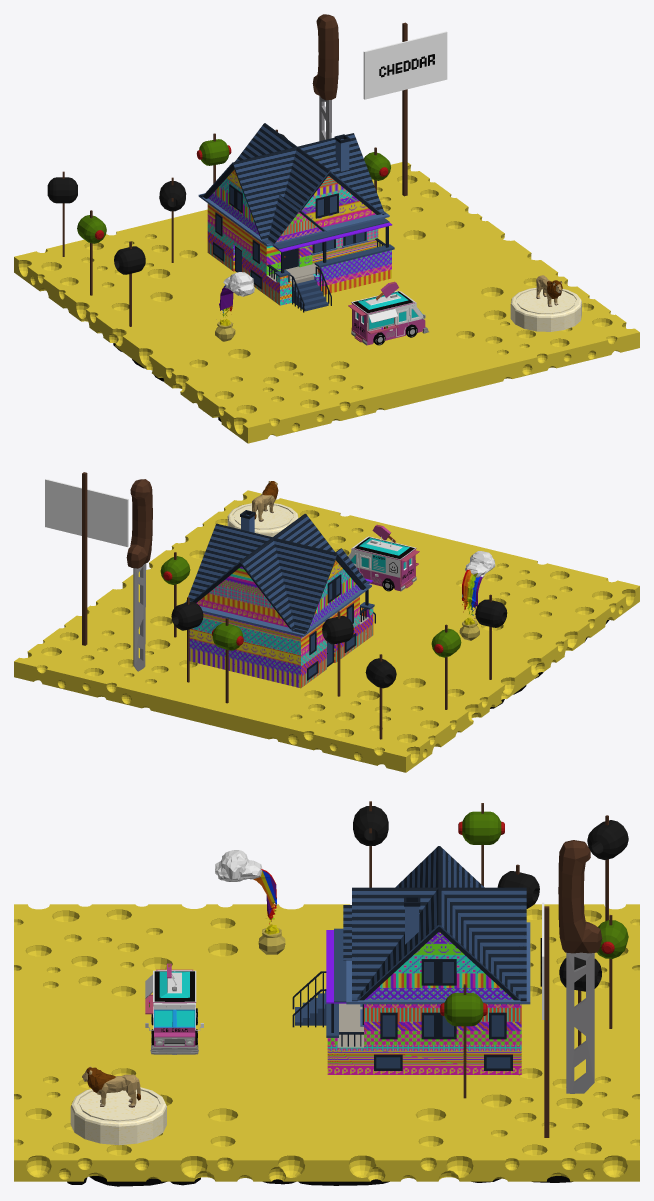
3 views of the same model, one above another, from view 1: azimuth 30°, elevation 25°; view 2: azimuth 150°, elevation 25°; view 3: azimuth 270°, elevation 25° (orthographic). The views are drawn at different scales.
Visible parts, largest first — view 1: Cube.022, Cube.676, Cube.023, VEHICLES_ICE_CREAM_TRUCK, Cylinder.016, Cube.024, OBJRANDOM_RAINBOW, Sphere.017, Sphere.016, Sphere.020, Sphere.018, Sphere.022 (+1 smaller); view 2: Cube.022, Cube.676, Cube.023, Cube.024, VEHICLES_ICE_CREAM_TRUCK, OBJRANDOM_RAINBOW, Cylinder.016, Sphere.020, Sphere.016, Sphere.022, Sphere.017, Sphere.021 (+3 smaller); view 3: Cube.022, Cube.676, Cube.024, Cylinder.016, VEHICLES_ICE_CREAM_TRUCK, OBJRANDOM_RAINBOW, Cube.023, Sphere.019, Sphere.016, Sphere.018, Curve.014, Sphere.017 (+4 smaller).
Boxes of the visible parts, x1,y1,x2,y2 form: Cube.022: [14, 162, 639, 443]; Cube.676: [198, 123, 394, 312]; Cube.023: [363, 22, 447, 196]; VEHICLES_ICE_CREAM_TRUCK: [348, 281, 428, 345]; Cylinder.016: [510, 287, 581, 331]; Cube.024: [312, 14, 338, 141]; OBJRANDOM_RAINBOW: [215, 272, 254, 341]; Sphere.017: [114, 241, 145, 326]; Sphere.016: [47, 171, 77, 256]; Sphere.020: [159, 177, 186, 262]; Sphere.018: [77, 210, 106, 295]; Sphere.022: [196, 133, 231, 183]; Cube.022: [14, 490, 639, 772]; Cube.676: [184, 510, 375, 688]; Cube.023: [45, 472, 128, 645]; Cube.024: [126, 479, 152, 671]; VEHICLES_ICE_CREAM_TRUCK: [348, 524, 419, 591]; OBJRANDOM_RAINBOW: [459, 551, 495, 640]; Cylinder.016: [227, 503, 298, 536]; Sphere.020: [322, 611, 353, 696]; Sphere.016: [365, 654, 396, 739]; Sphere.022: [212, 618, 243, 703]; Sphere.017: [475, 594, 507, 679]; Sphere.021: [171, 597, 203, 682]; Cube.022: [14, 904, 639, 1181]; Cube.676: [292, 846, 530, 1074]; Cube.024: [558, 840, 602, 1093]; Cylinder.016: [70, 1087, 166, 1145]; VEHICLES_ICE_CREAM_TRUCK: [145, 963, 203, 1054]; OBJRANDOM_RAINBOW: [215, 850, 285, 954]; Cube.023: [540, 902, 549, 1137]; Sphere.019: [440, 984, 487, 1098]; Sphere.016: [587, 815, 628, 920]; Sphere.018: [458, 803, 504, 886]; Curve.014: [67, 1176, 572, 1186]; Sphere.017: [353, 801, 388, 887].
Size of the model in its own units: 3917 by 1980 by 4000.
Materials: 50 (7 with a texture image).
